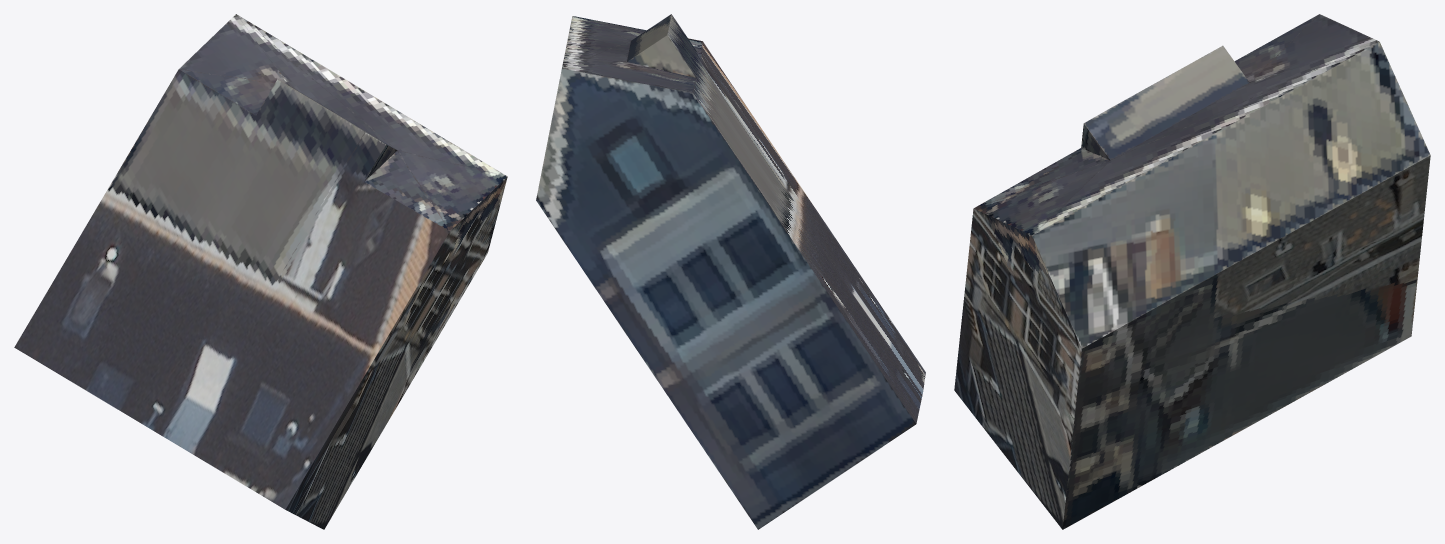
The picture shows the model from 3 angles, left to right: view 1: azimuth 30°, elevation 25°; view 2: azimuth 150°, elevation 25°; view 3: azimuth 270°, elevation 25°; orthographic projection. The views are drawn at different scales.
Parts seen in each view (by area): view 1: BAG_0599100000650075 (×4); view 2: BAG_0599100000650075 (×4); view 3: BAG_0599100000650075 (×4).
Part boxes in pixels (x1,y1,x2,y2): BAG_0599100000650075 (×4): (14,14,507,529); BAG_0599100000650075 (×4): (536,14,925,529); BAG_0599100000650075 (×4): (954,14,1430,529).
Size of the model in its own units: 14.5 by 14.84 by 12.5.
Materials: 1 (1 with a texture image).
